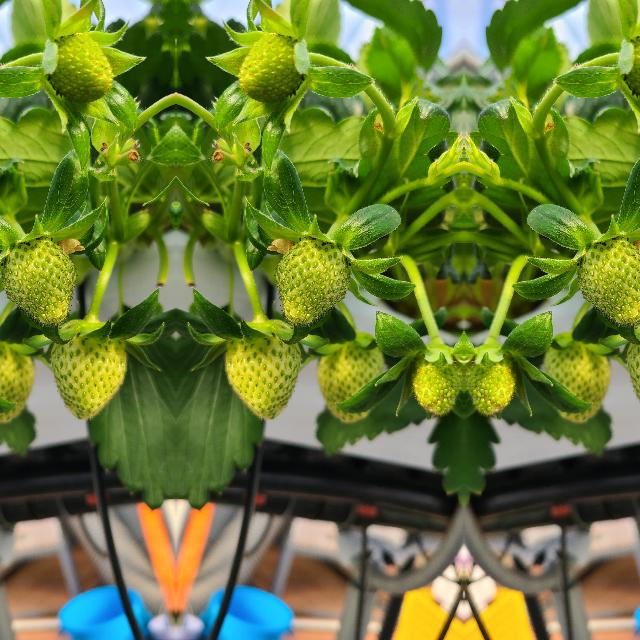Health_25: (222, 323, 300, 419), (51, 323, 128, 419), (274, 238, 350, 322), (0, 238, 76, 322), (314, 335, 386, 423), (540, 335, 612, 423), (235, 26, 307, 104), (43, 26, 115, 104), (576, 237, 640, 322), (411, 348, 463, 414), (463, 348, 515, 414), (0, 335, 35, 423), (619, 25, 640, 104)
